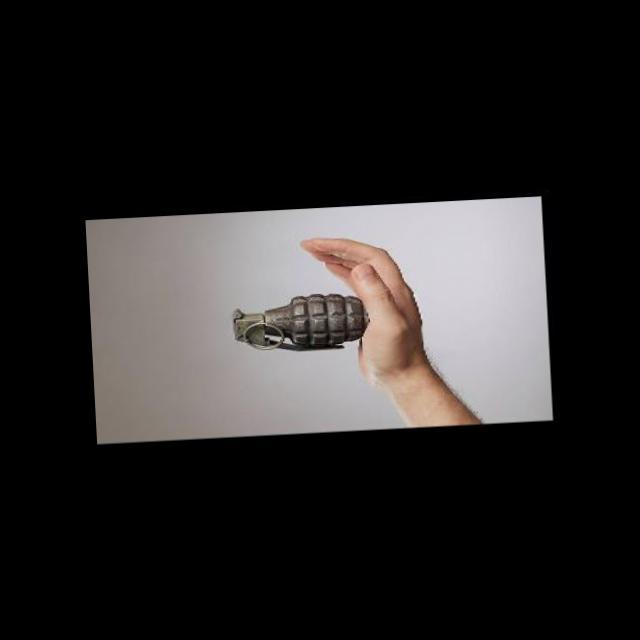grenade: (226, 285, 387, 356)
